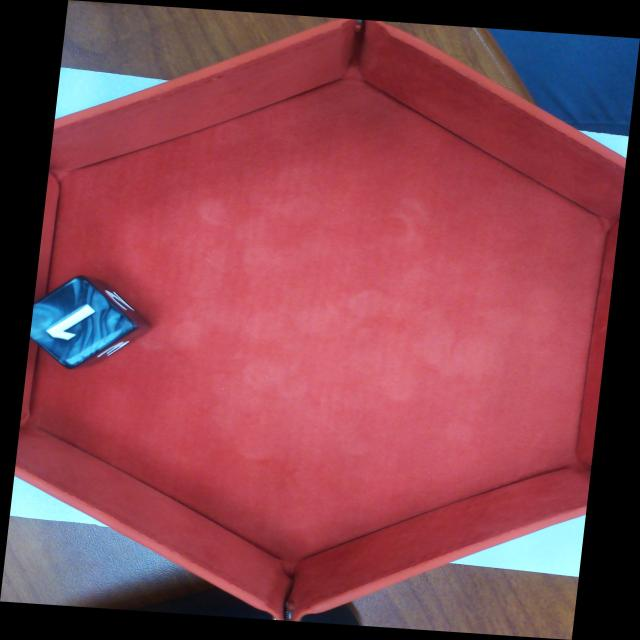dice: (34, 276, 136, 369)
